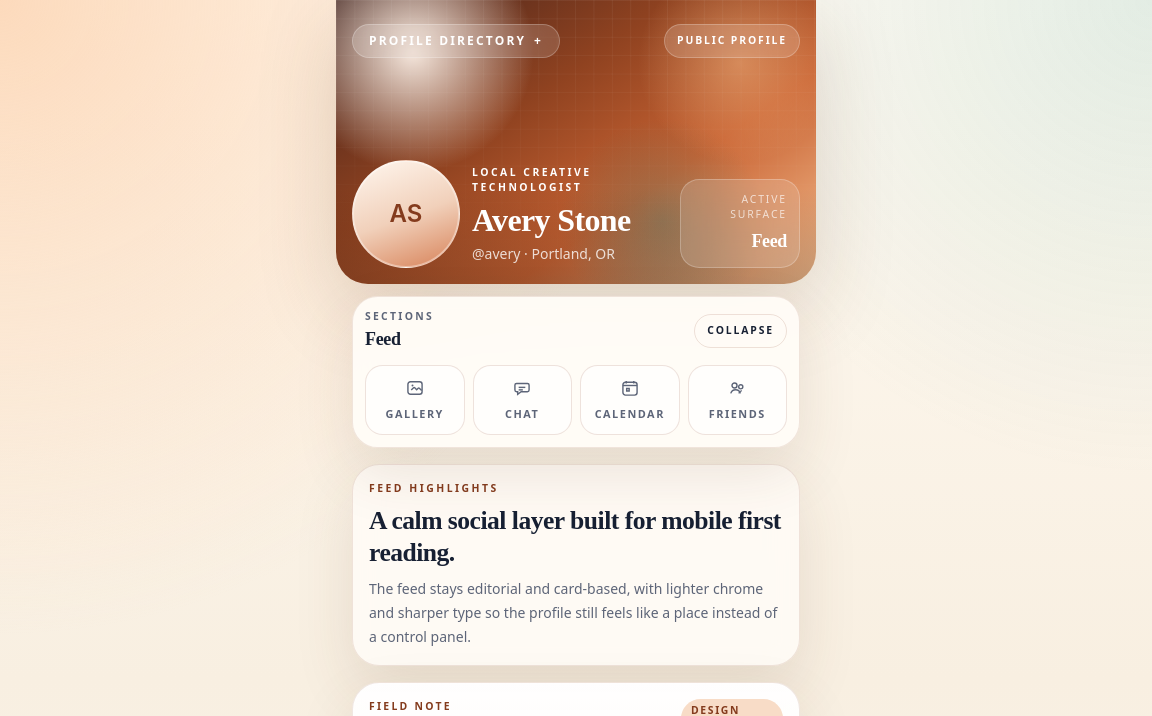
Test: MobileProfile › renders the feed by default and switches to directory and section views
Click the button with aria-label "Open profile directory": {"x": 456, "y": 41} [352, 24, 560, 58]
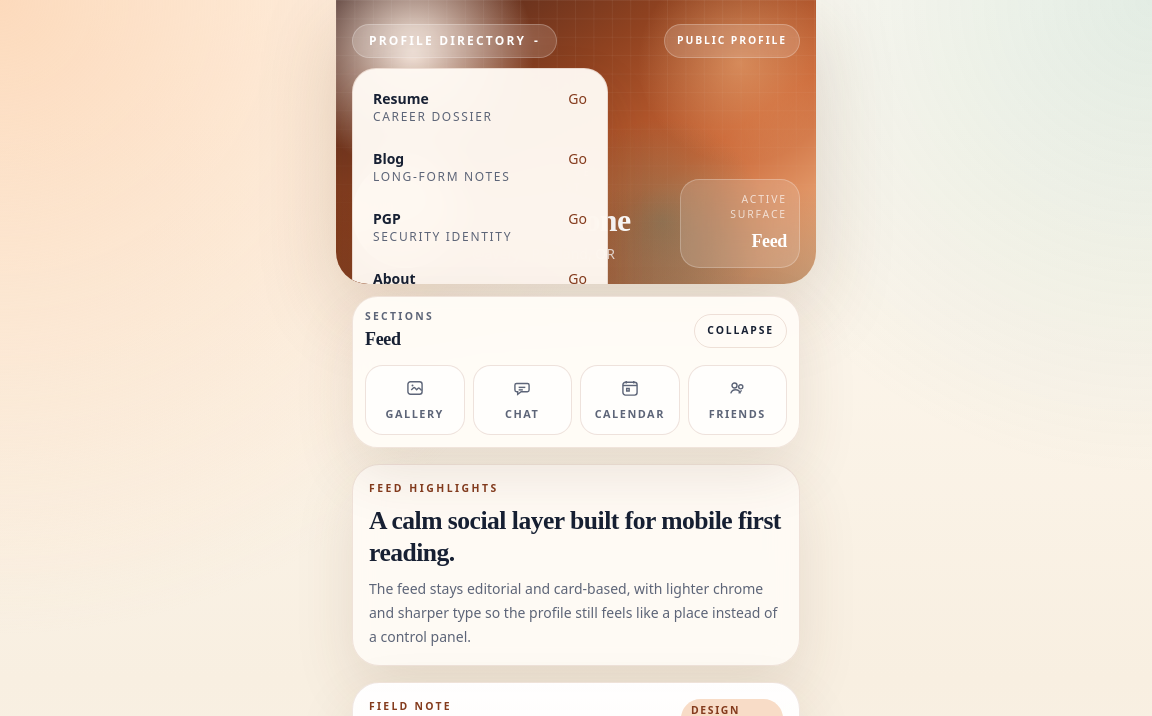
Expected: the element with test id "mobile-profile-directory-menu" is shown, [352, 68, 608, 284]
Expected: the button "Resume Career dossier Go" is shown
Click the button "Resume Career dossier Go": {"x": 480, "y": 107} [361, 77, 599, 137]
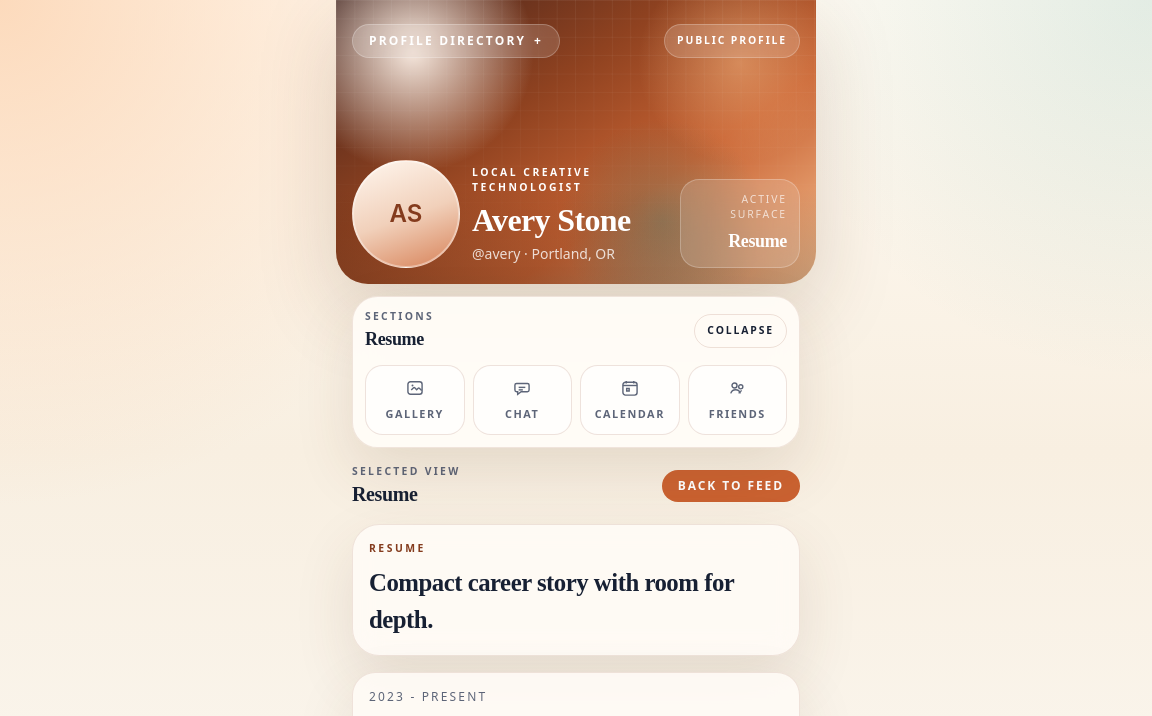
Click the button with class "mobile-profile-section-button" showing "Calendar": {"x": 630, "y": 400} [580, 365, 680, 435]
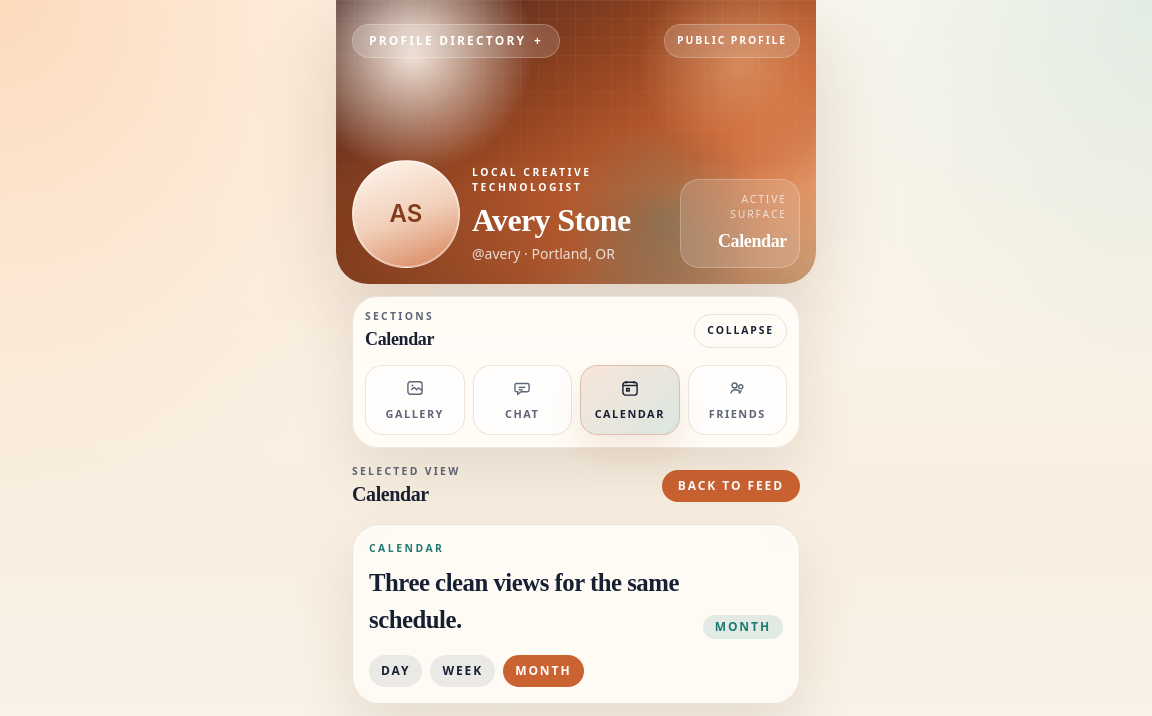
Expected: the tab "week" is shown
Click the tab "week": {"x": 463, "y": 670} [430, 654, 495, 686]
(page scrolled)
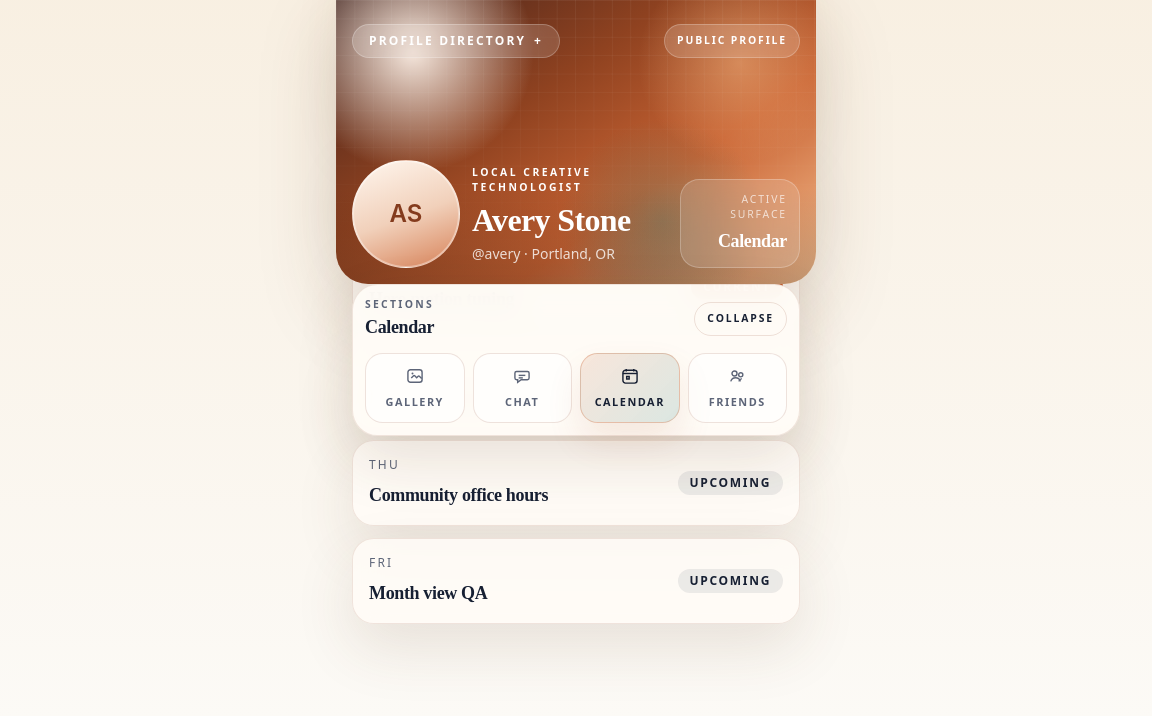
Expected: the element with test id "mobile-profile-calendar-week" is shown, [352, 146, 800, 624]
